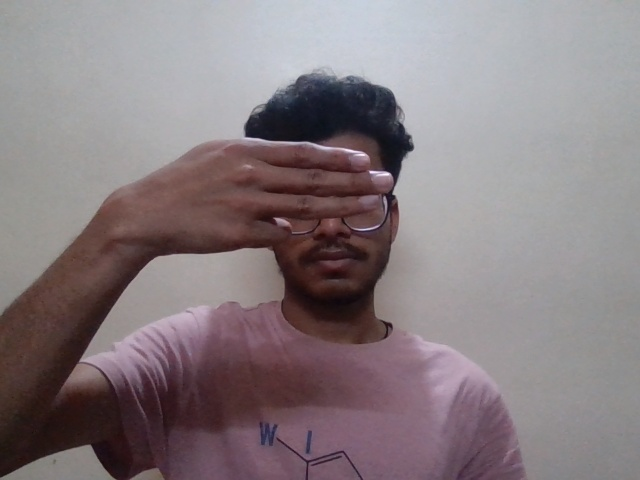wednesday: (105, 132, 394, 275)
